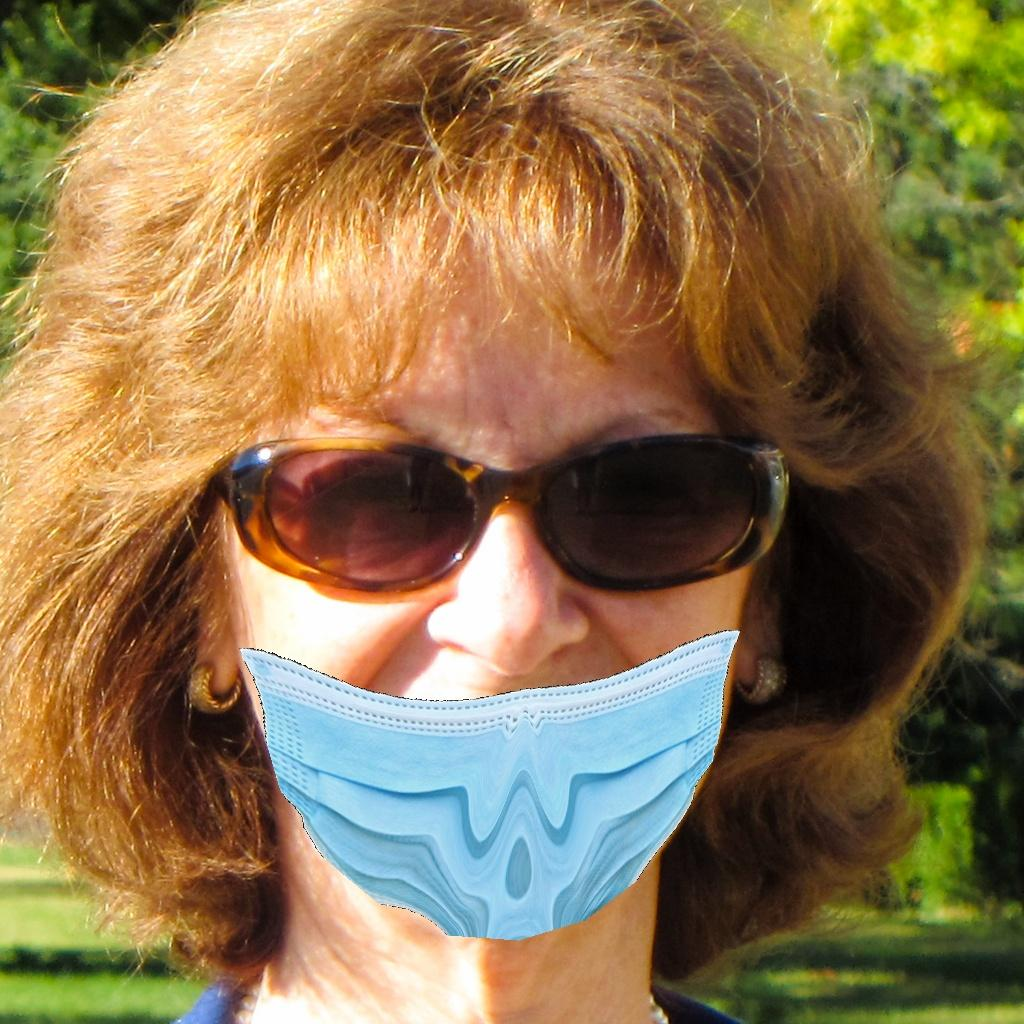Máscara Incorreta: (239, 283, 776, 937)
